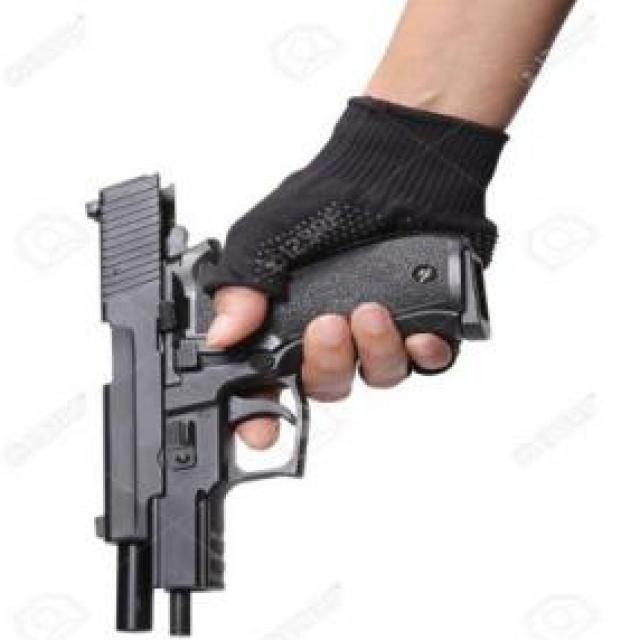pistol: (87, 168, 489, 638)
